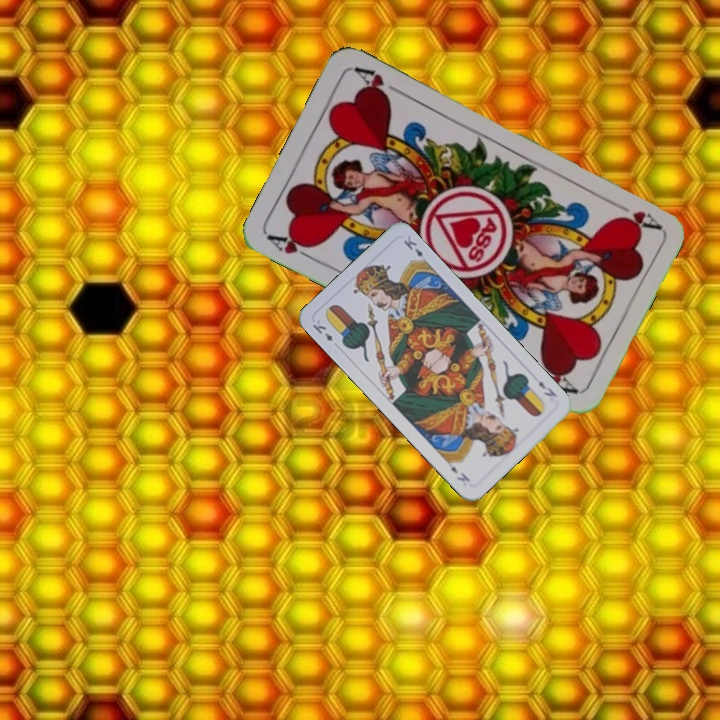EK: (308, 316, 342, 351), (534, 377, 560, 400)
HA: (264, 229, 319, 265), (607, 197, 663, 232)
